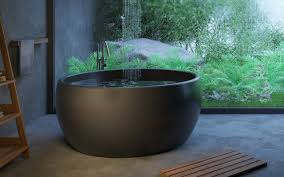bathub: (55, 62, 208, 159)
